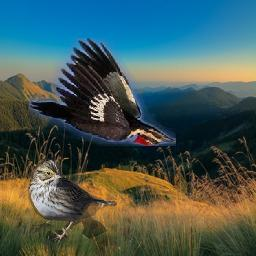Sparrow: (29, 159, 118, 243)
Woodpecker: (30, 38, 177, 146)
